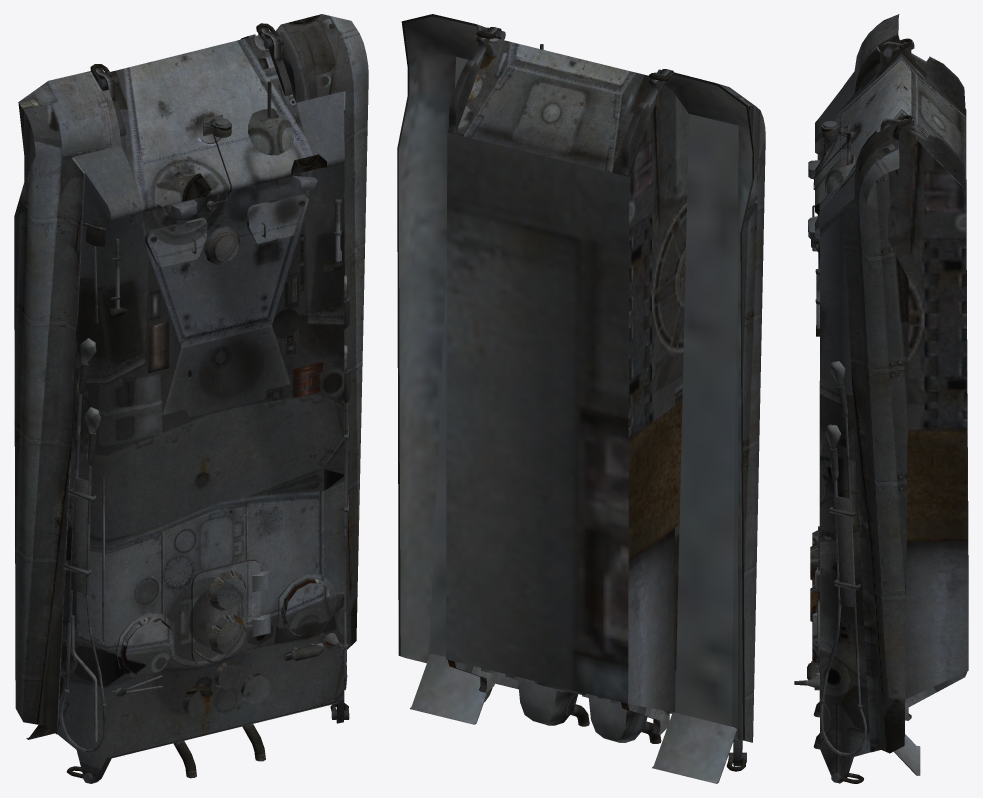
File: Hull.obj
3 views of the same model, side by side, from view 1: azimuth 30°, elevation 25°; view 2: azimuth 150°, elevation 25°; view 3: azimuth 270°, elevation 25° (orthographic). The views are drawn at different scales.
Parts seen in each view (by area): view 1: 3D_Object_1; view 2: 3D_Object_1; view 3: 3D_Object_1.
Part boxes in pixels (x1=…): 3D_Object_1: x1=14, y1=14, x2=368, y2=783; 3D_Object_1: x1=397, y1=14, x2=765, y2=783; 3D_Object_1: x1=794, y1=14, x2=968, y2=783.
Size of the model in its own units: 3.76 by 7.42 by 1.79.
